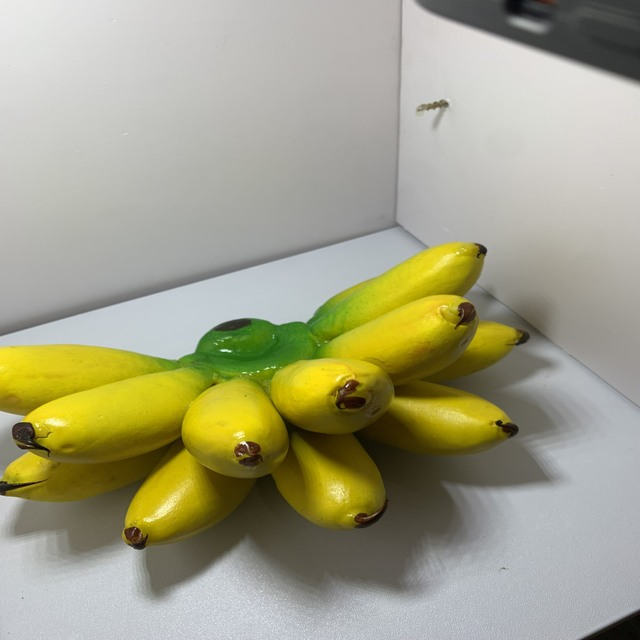Chuoi: (0, 237, 531, 562)
